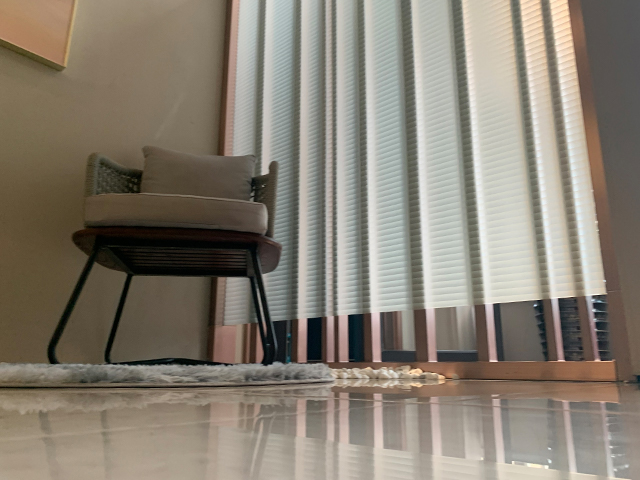carpet: (1, 360, 336, 389)
stool: (46, 143, 282, 366)
